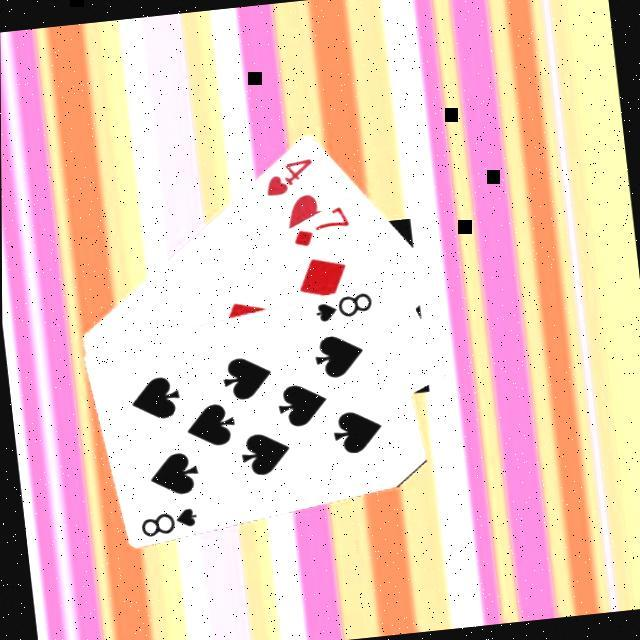4H: (259, 152, 319, 198)
7D: (287, 203, 355, 249)
8S: (311, 287, 376, 323), (136, 502, 201, 538)
